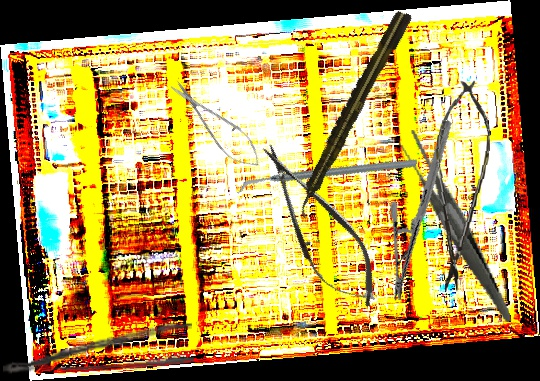Chopper: (236, 111, 419, 241)
Dressing Forceps: (397, 118, 511, 336), (0, 322, 195, 376)
Handpiece: (288, 7, 415, 220)
Micro Scissor: (241, 129, 395, 323), (426, 75, 495, 296), (162, 72, 270, 177)
Needle Holder: (356, 119, 488, 302)
